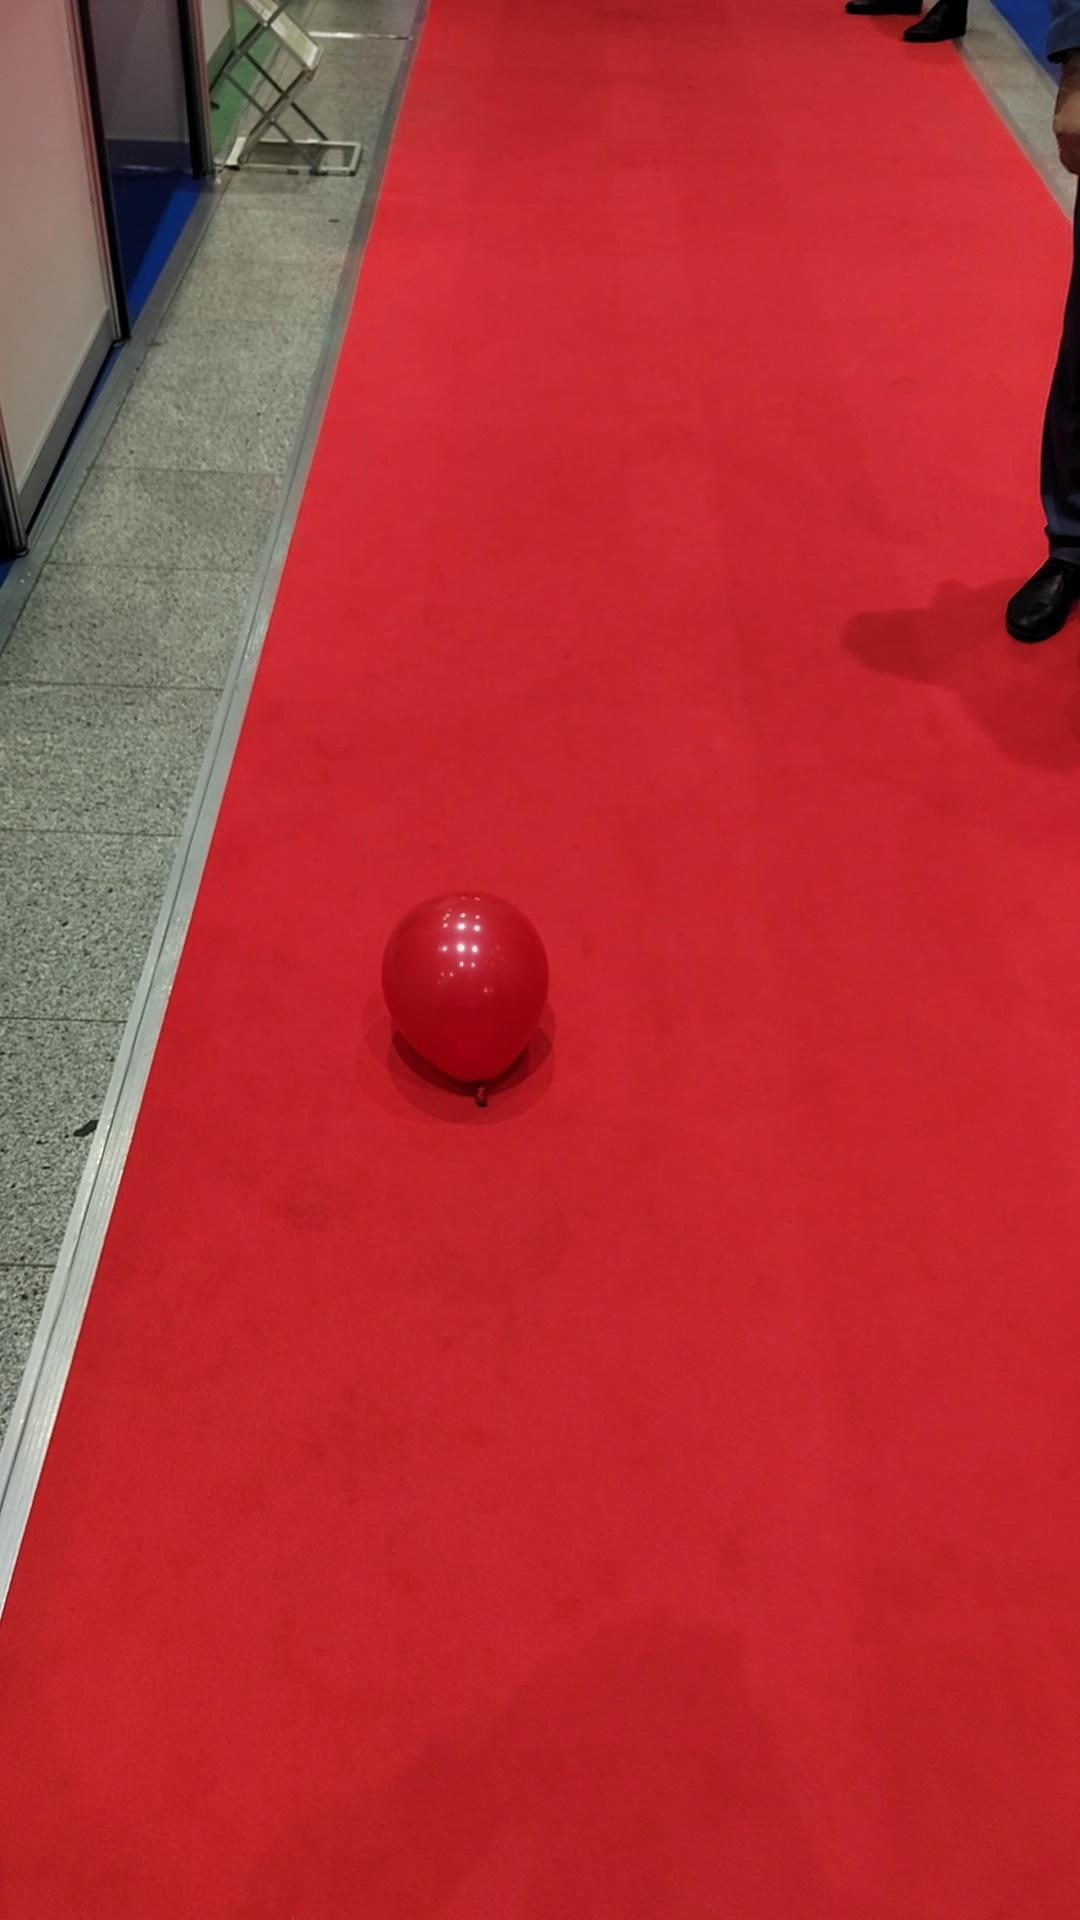red: (381, 893, 551, 1092)
